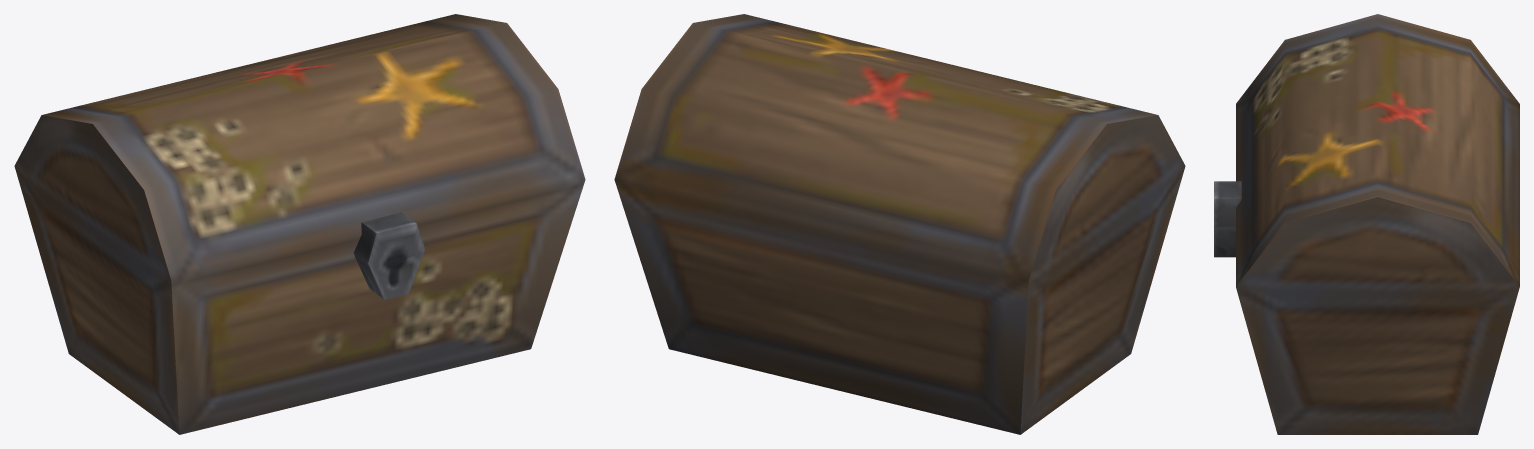
Rendered from ship_etc_2.FBX.
3 views of the same model, side by side, from view 1: azimuth 30°, elevation 25°; view 2: azimuth 150°, elevation 25°; view 3: azimuth 270°, elevation 25° (orthographic). The views are drawn at different scales.
Parts seen in each view (by area): view 1: Object004; view 2: Object004; view 3: Object004.
Part boxes in pixels (x1,y1,x2,y2): Object004: (14,14,585,434); Object004: (614,14,1185,434); Object004: (1214,14,1519,434).
Bounding box in the file's own units: 128 × 90.4 × 82.13.
